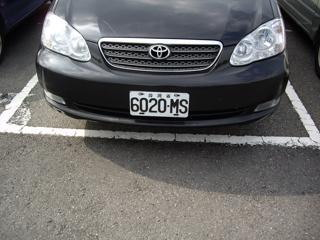plate: (127, 89, 190, 120)
